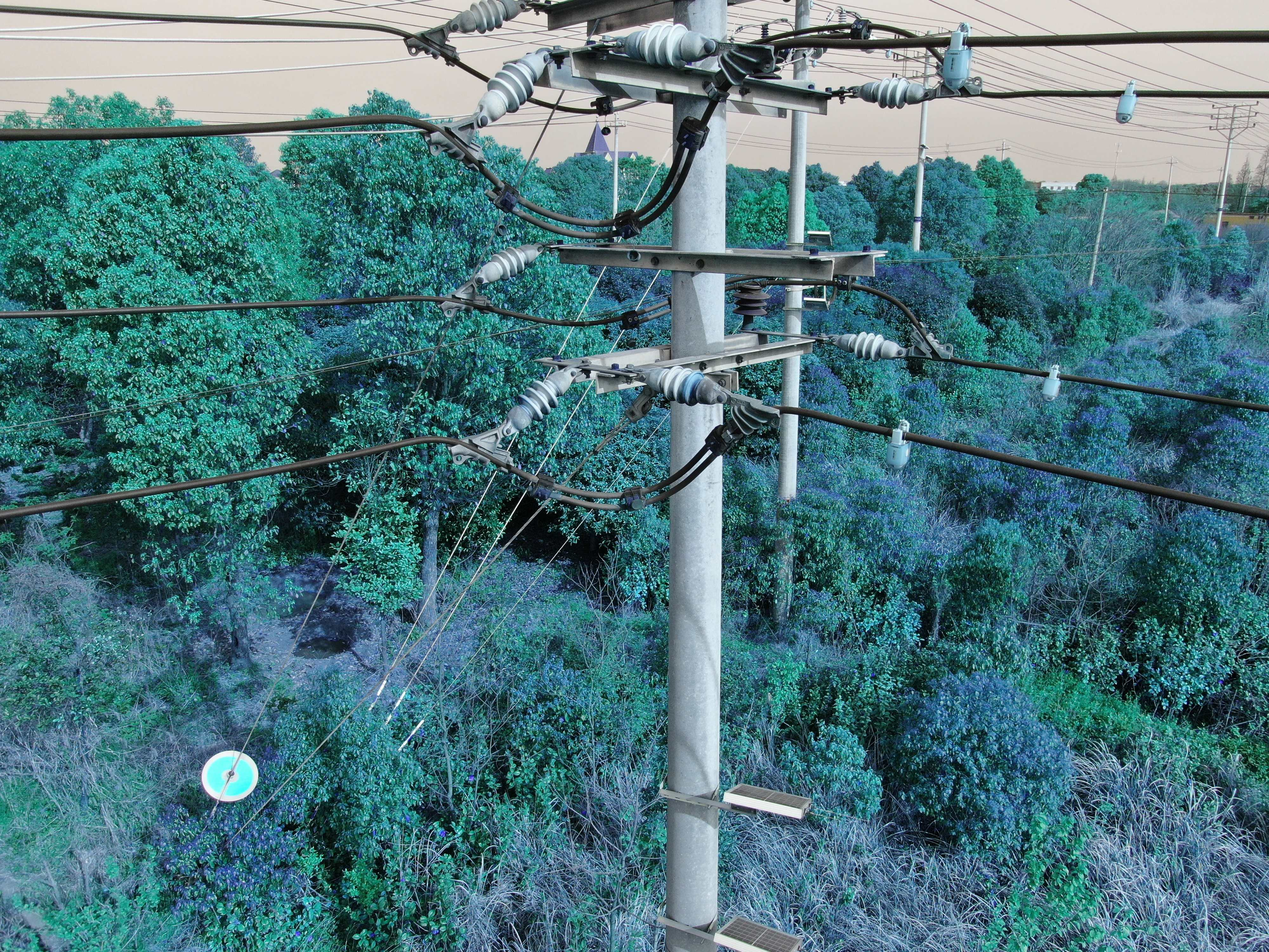severe_soiling_no_discharge_whole: (481, 50, 552, 120), (504, 367, 579, 433), (622, 21, 706, 72), (639, 362, 728, 409), (477, 240, 543, 286), (860, 73, 926, 112), (837, 327, 897, 367), (457, 0, 521, 35)
